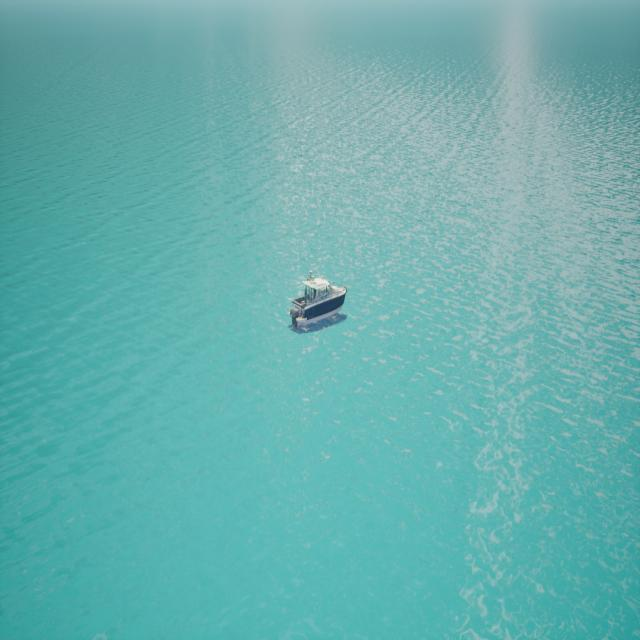ship: (288, 278, 346, 332)
